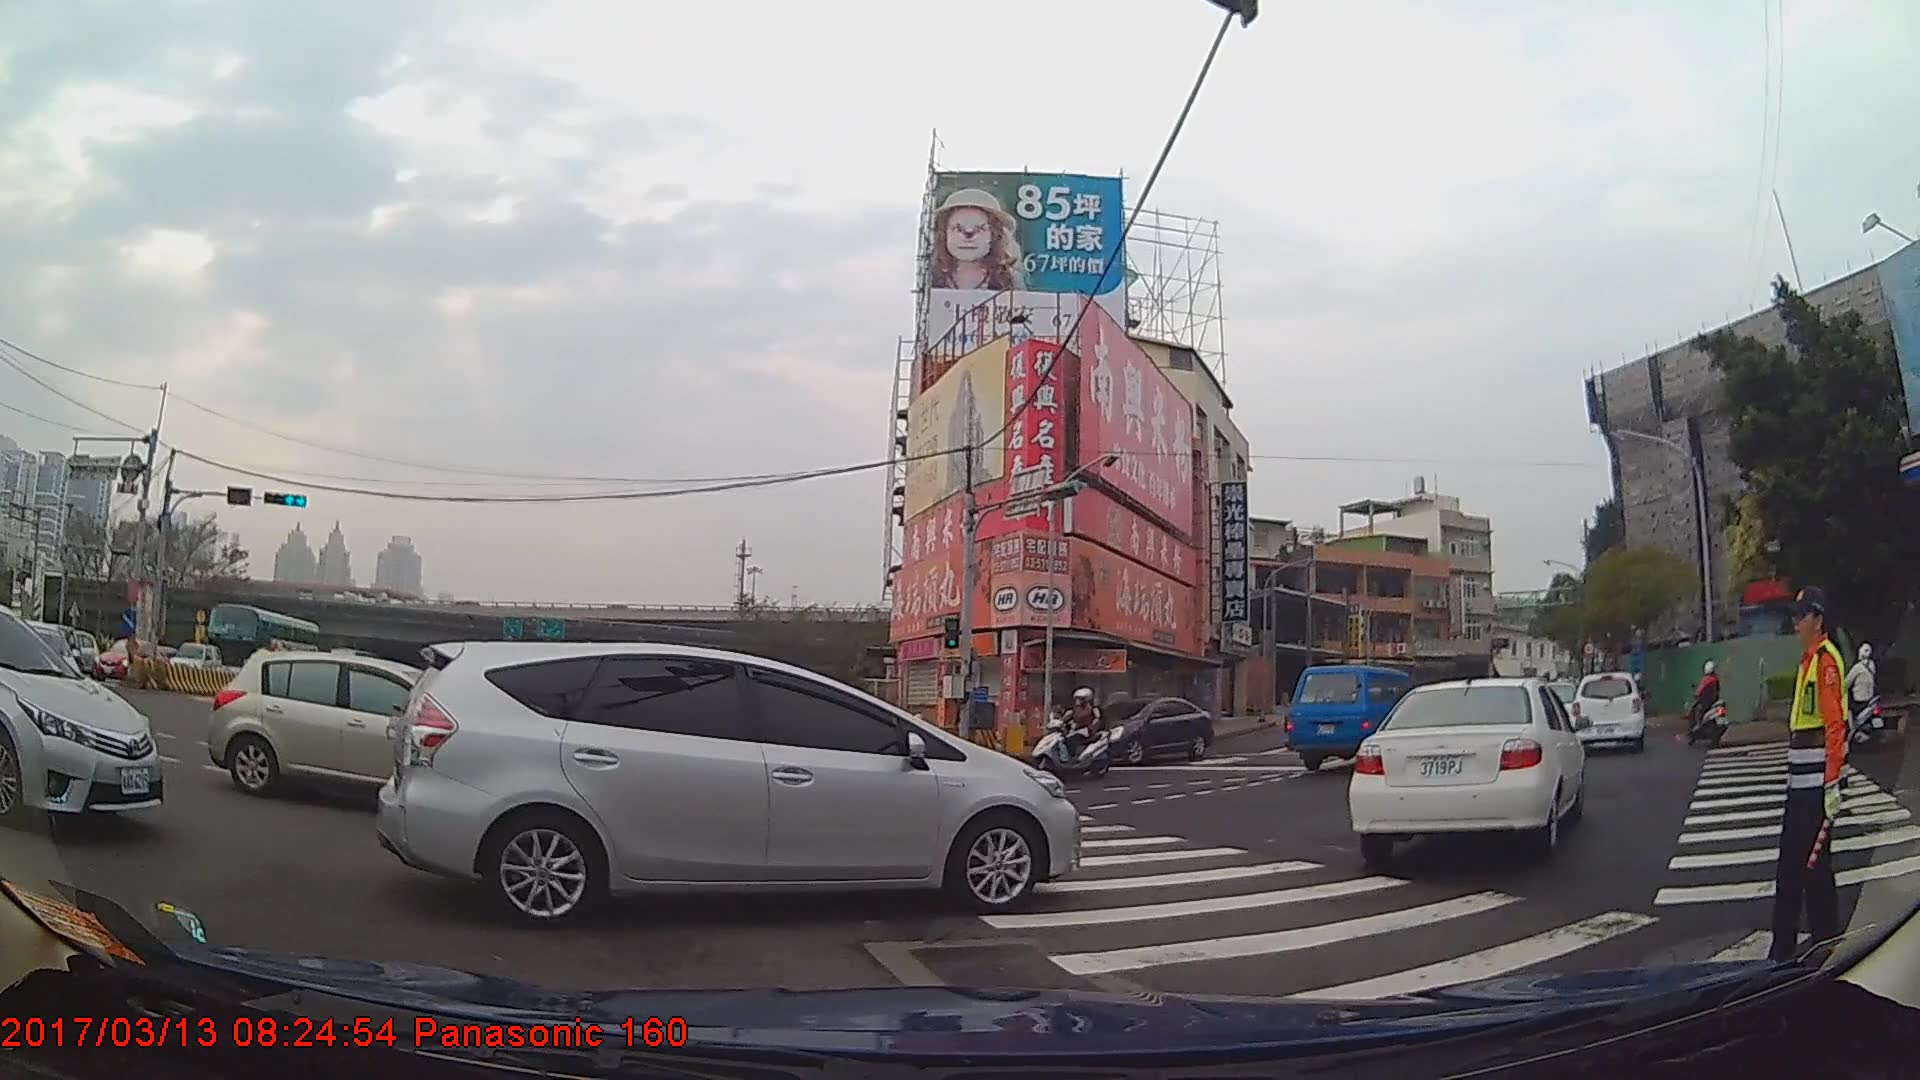pedestrian: (1763, 587, 1854, 972), (243, 636, 285, 732)
rider: (1030, 687, 1115, 779), (1830, 643, 1886, 751), (1687, 660, 1731, 749)
vehicle: (377, 639, 1083, 926), (210, 647, 498, 812), (1343, 675, 1584, 857), (0, 610, 164, 829), (1282, 664, 1423, 775), (204, 602, 321, 684), (1084, 694, 1208, 765), (1568, 671, 1643, 758), (90, 634, 169, 685), (167, 639, 220, 680)
